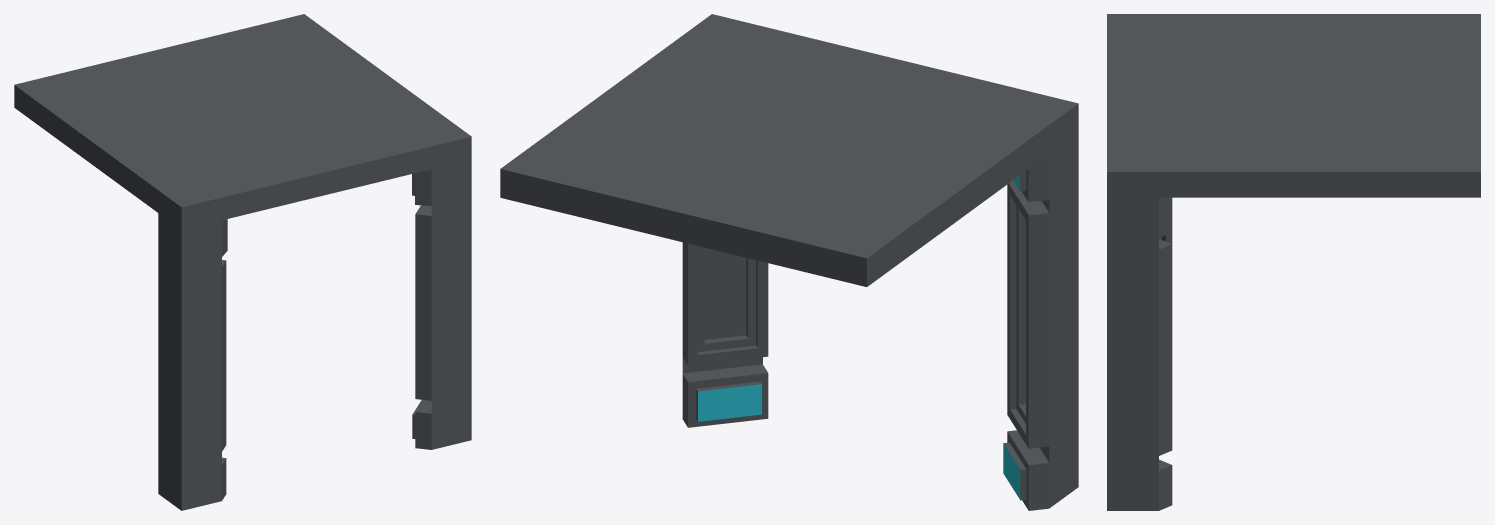
The model's file is EspacioContenidoScrollIngresoBajoNI.gltf.
The picture shows the model from 3 angles, left to right: view 1: azimuth 30°, elevation 25°; view 2: azimuth 150°, elevation 25°; view 3: azimuth 270°, elevation 25°; orthographic projection. The views are drawn at different scales.
Visible parts, largest first — view 1: Cubo.59; view 2: Cubo.59; view 3: Cubo.59.
Boxes of the visible parts, x1,y1,x2,y2 form: Cubo.59: [14, 14, 471, 510]; Cubo.59: [500, 14, 1078, 510]; Cubo.59: [1107, 14, 1480, 510].
Size of the model in its own units: 2 by 2 by 2.
Materials: 1 (1 with a texture image).
